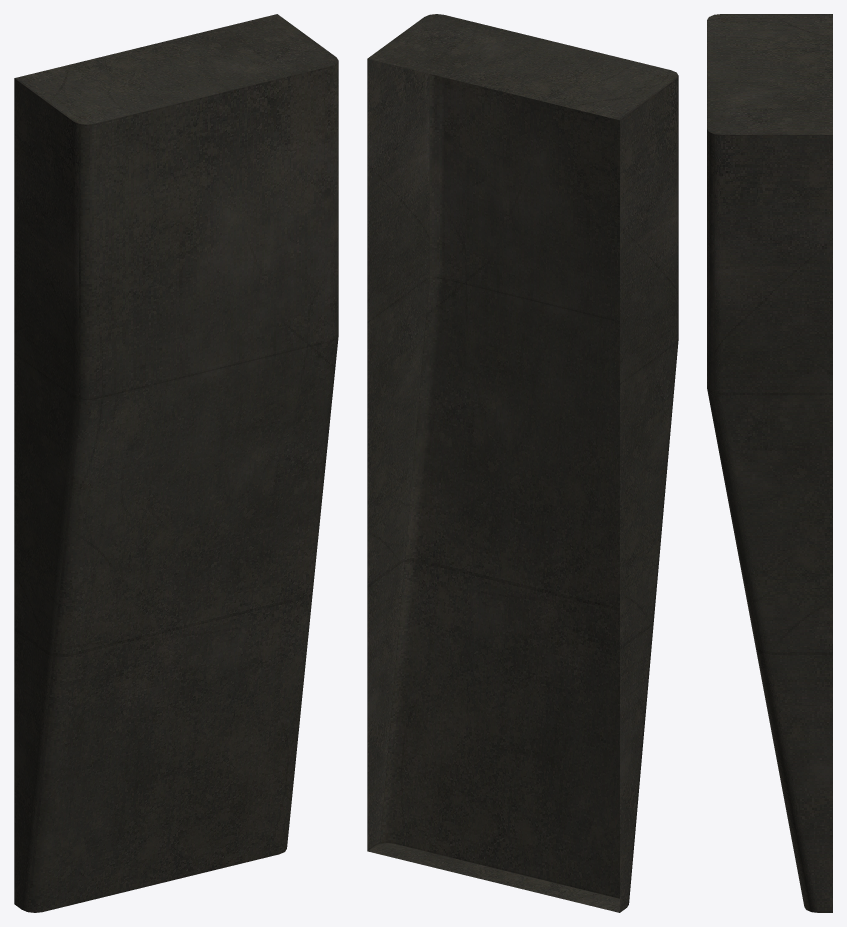
File: wall_element_1_bottom.glb
The picture shows the model from 3 angles, left to right: view 1: azimuth 30°, elevation 25°; view 2: azimuth 150°, elevation 25°; view 3: azimuth 270°, elevation 25°; orthographic projection. The views are drawn at different scales.
Parts seen in each view (by area): view 1: wall_element_1_bottom; view 2: wall_element_1_bottom; view 3: wall_element_1_bottom.
Boxes of the visible parts, x1,y1,x2,y2 form: wall_element_1_bottom: (14,14,338,912); wall_element_1_bottom: (367,14,678,912); wall_element_1_bottom: (707,14,832,912).
Size of the model in its own units: 1 by 3 by 0.44.
1 material, 1 textured.
